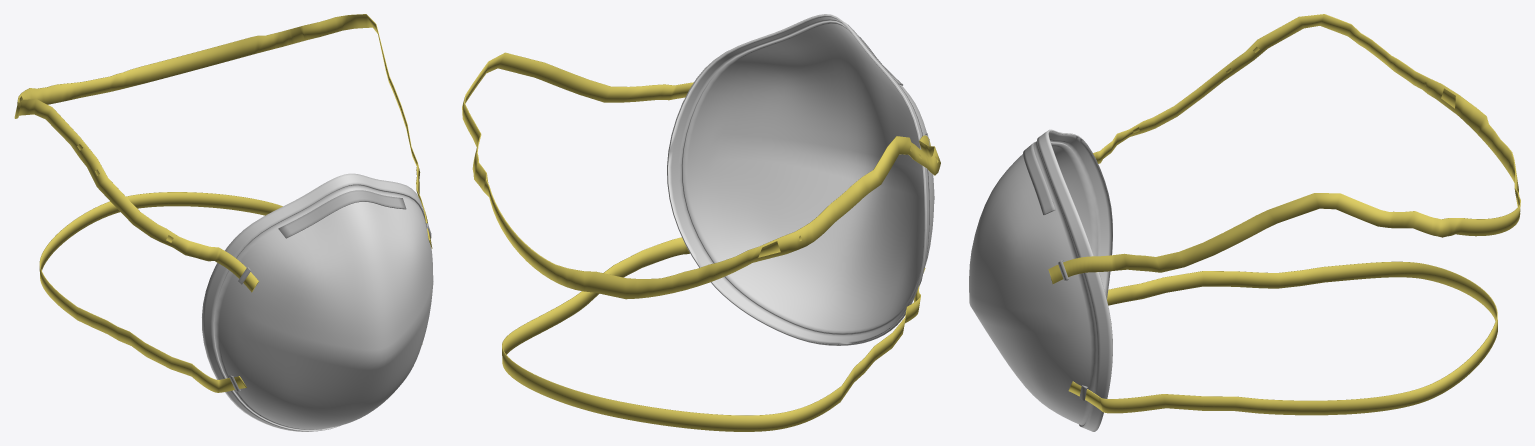
The model's file is Mask_N95.fbx.
3 renders of one model, left to right at view 1: azimuth 30°, elevation 25°; view 2: azimuth 150°, elevation 25°; view 3: azimuth 270°, elevation 25°, orthographic. The views are drawn at different scales.
Visible parts, largest first — view 1: Mask_N95; view 2: Mask_N95; view 3: Mask_N95.
Part boxes in pixels (x1=…): Mask_N95: x1=14, y1=14, x2=433, y2=431; Mask_N95: x1=462, y1=14, x2=940, y2=431; Mask_N95: x1=969, y1=14, x2=1520, y2=431.
Size of the model in its own units: 15.47 by 12.43 by 19.83.
